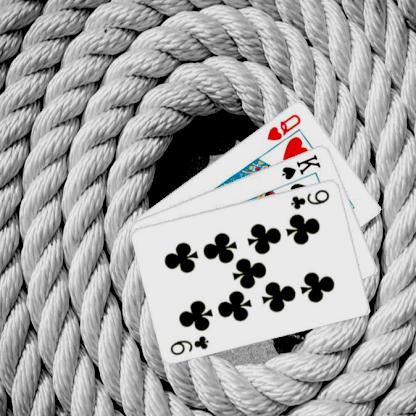9C: (288, 186, 332, 210), (168, 332, 210, 357)
KS: (278, 151, 323, 181)
QH: (264, 110, 302, 142)
